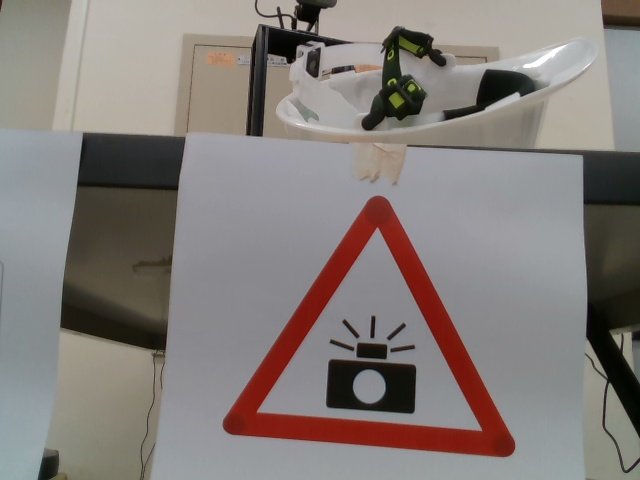camera: (222, 194, 518, 461)
helmet: (270, 25, 596, 153)
